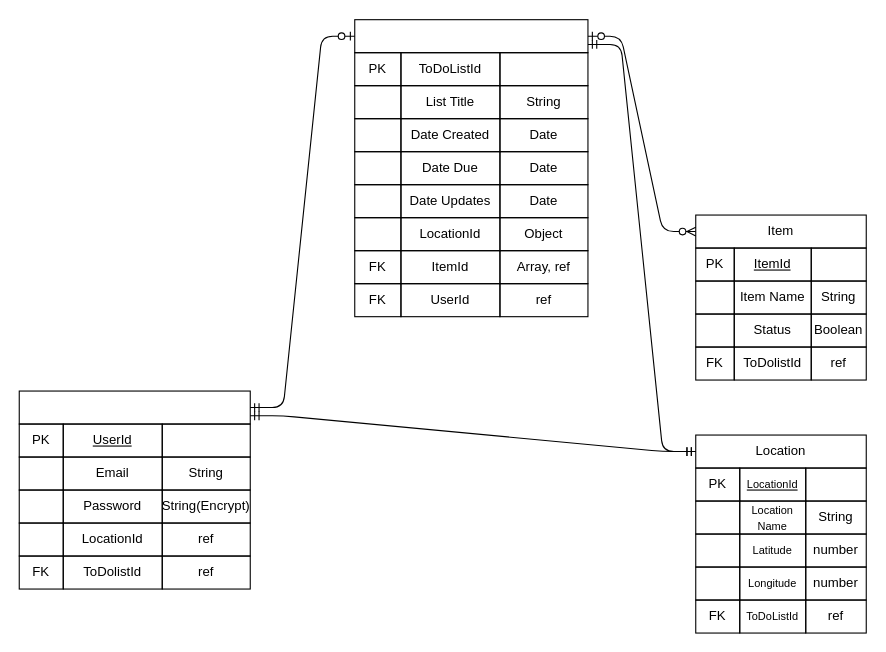
The diagram is 886 pixels wide and 652 high, and some of its shapes have lost their labels. The shapes that lost their labels are listed below. From the top down, each one's centre as x and y in pixels, then its label:
point (471, 36): ToDoList
point (134, 407): User
